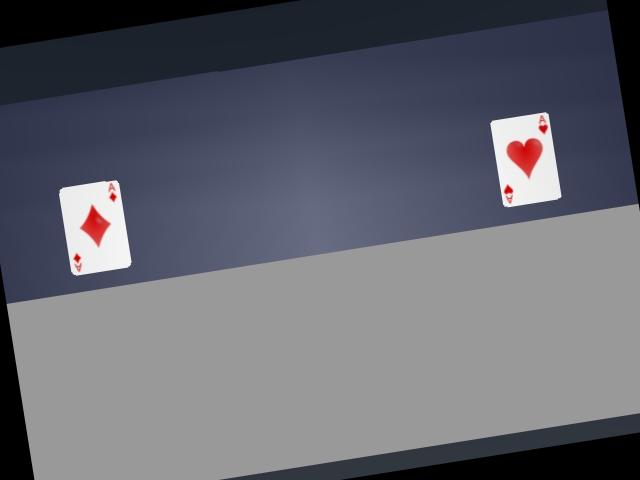diamond: (59, 181, 130, 275)
heart: (490, 112, 560, 206)
